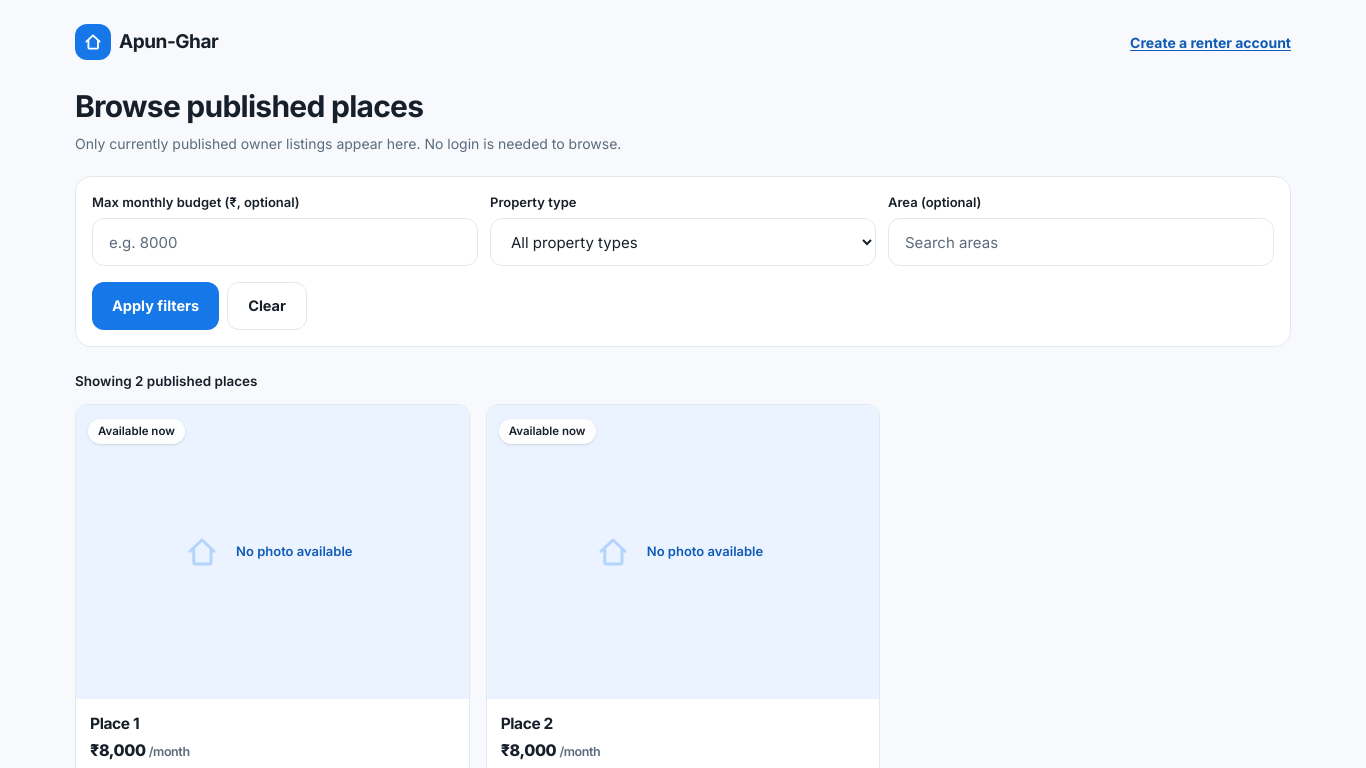
Test case: public browse page › shows a validation error for an unusable budget without refetching
This screenshot has width=1366, height=768.
Check: the text "Showing 2 published places" is shown, box [75,373,258,389]
Type "abc" into the field with placeholder "e.g. 8000" at point(285, 242), box [92,218,478,266]
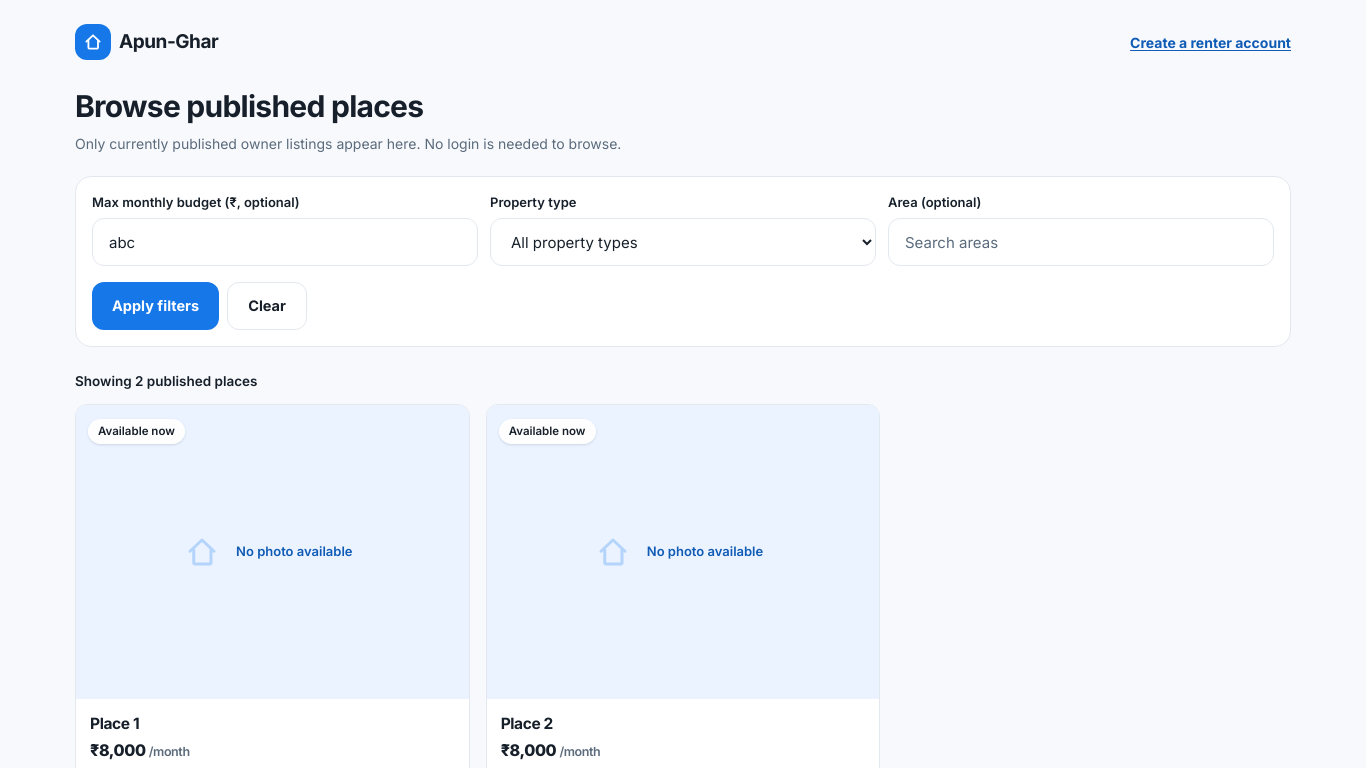
Click the button "Apply filters" at point(156, 306), box [92,282,219,330]
(page scrolled)
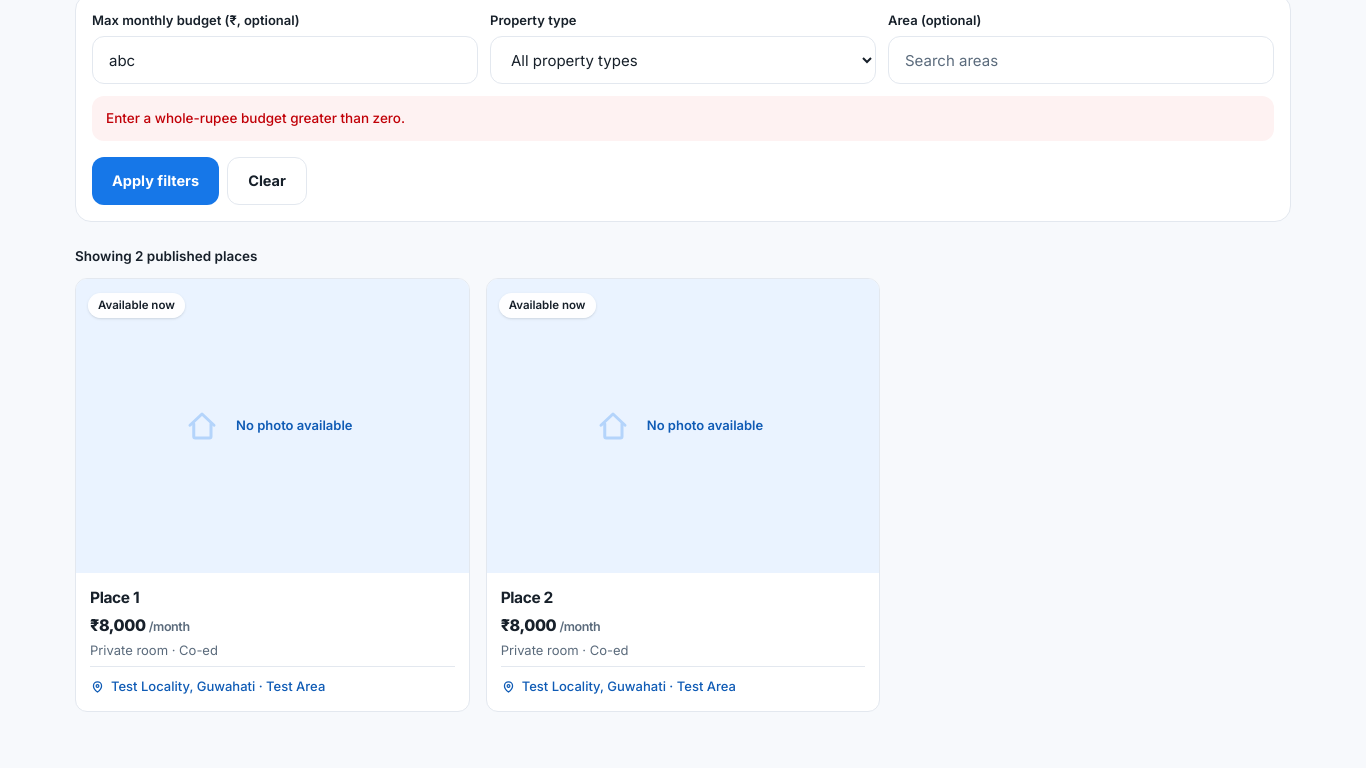
Check: the heading "Place 1" is shown, box [90,588,139,607]
Check: the text "Enter a whole-rupee budget greater than zero." is shown, box [92,96,1274,141]
